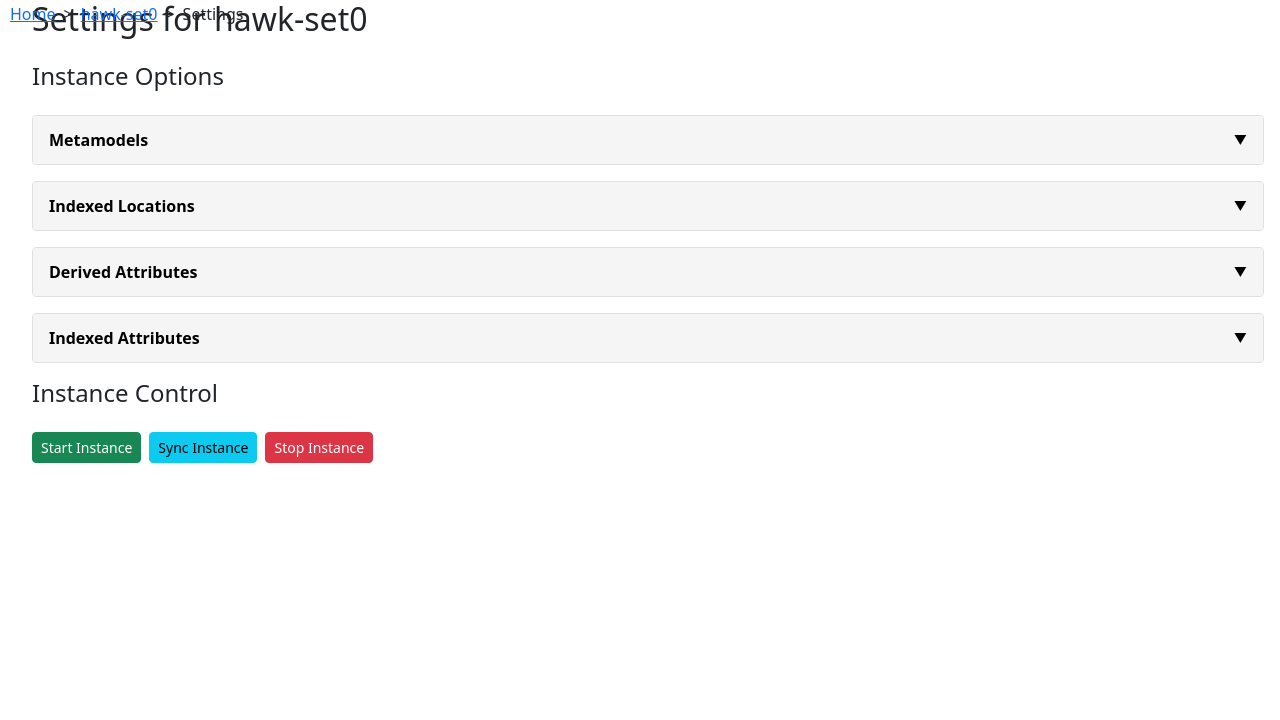
Test case: SettingsContent › opens the add indexed attribute modal
Click the button "Indexed Attributes ▼". click: (124, 338)
box: [33,314,1263,362]
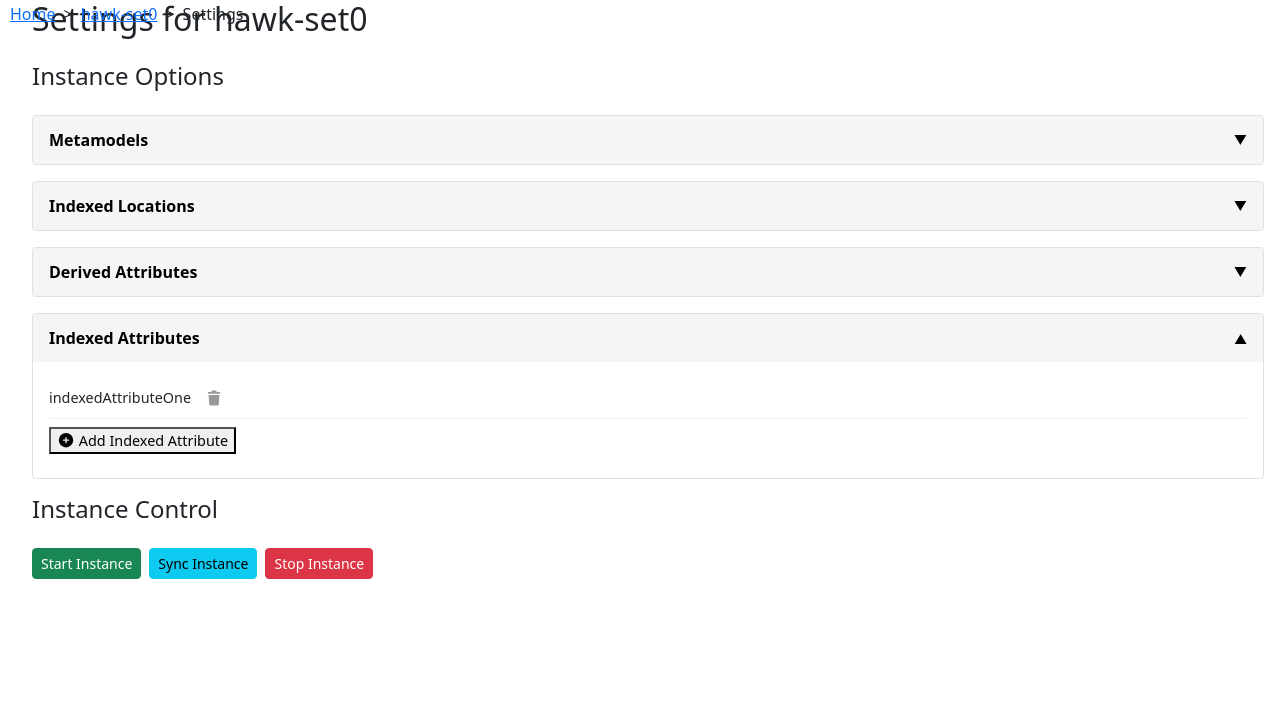
Result: the text "indexedAttributeOne" is shown at [49,388,191,407]
Result: the button "Add Indexed Attribute" is shown
Click the button "Add Indexed Attribute". click: (143, 441)
box: [49,427,236,454]
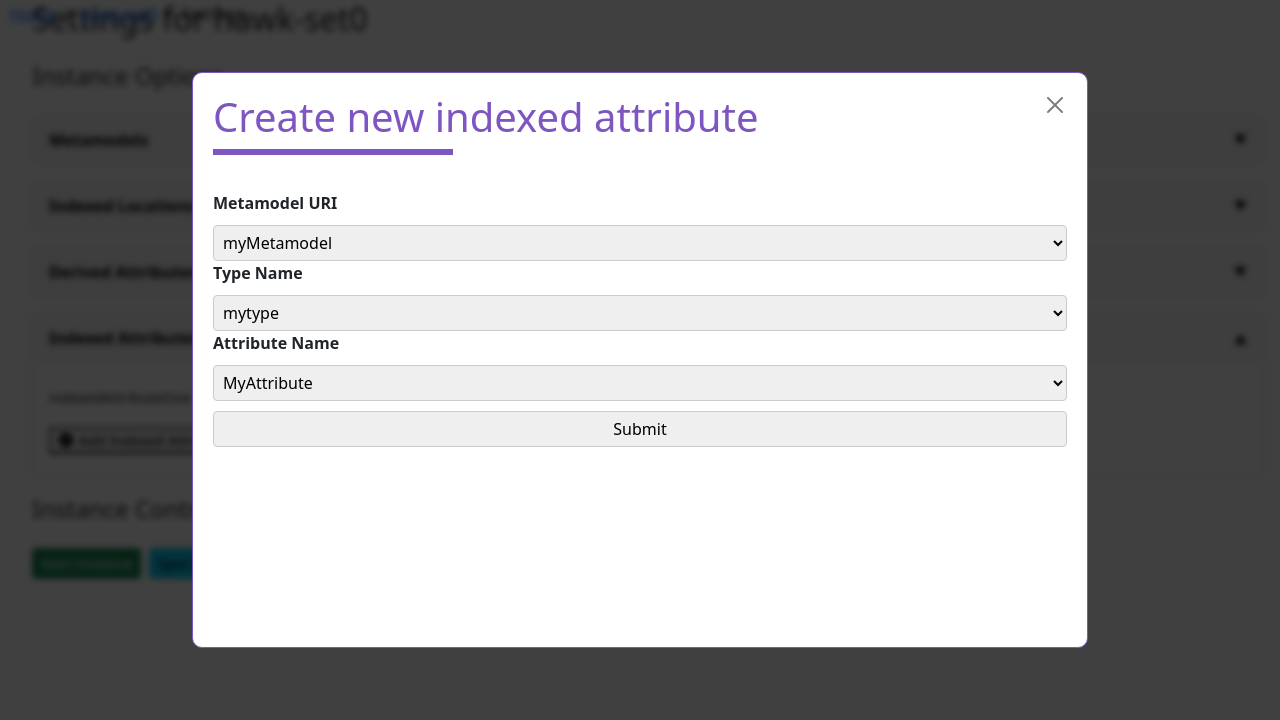
Result: the heading "Create new indexed attribute" is shown at [213,93,758,141]
